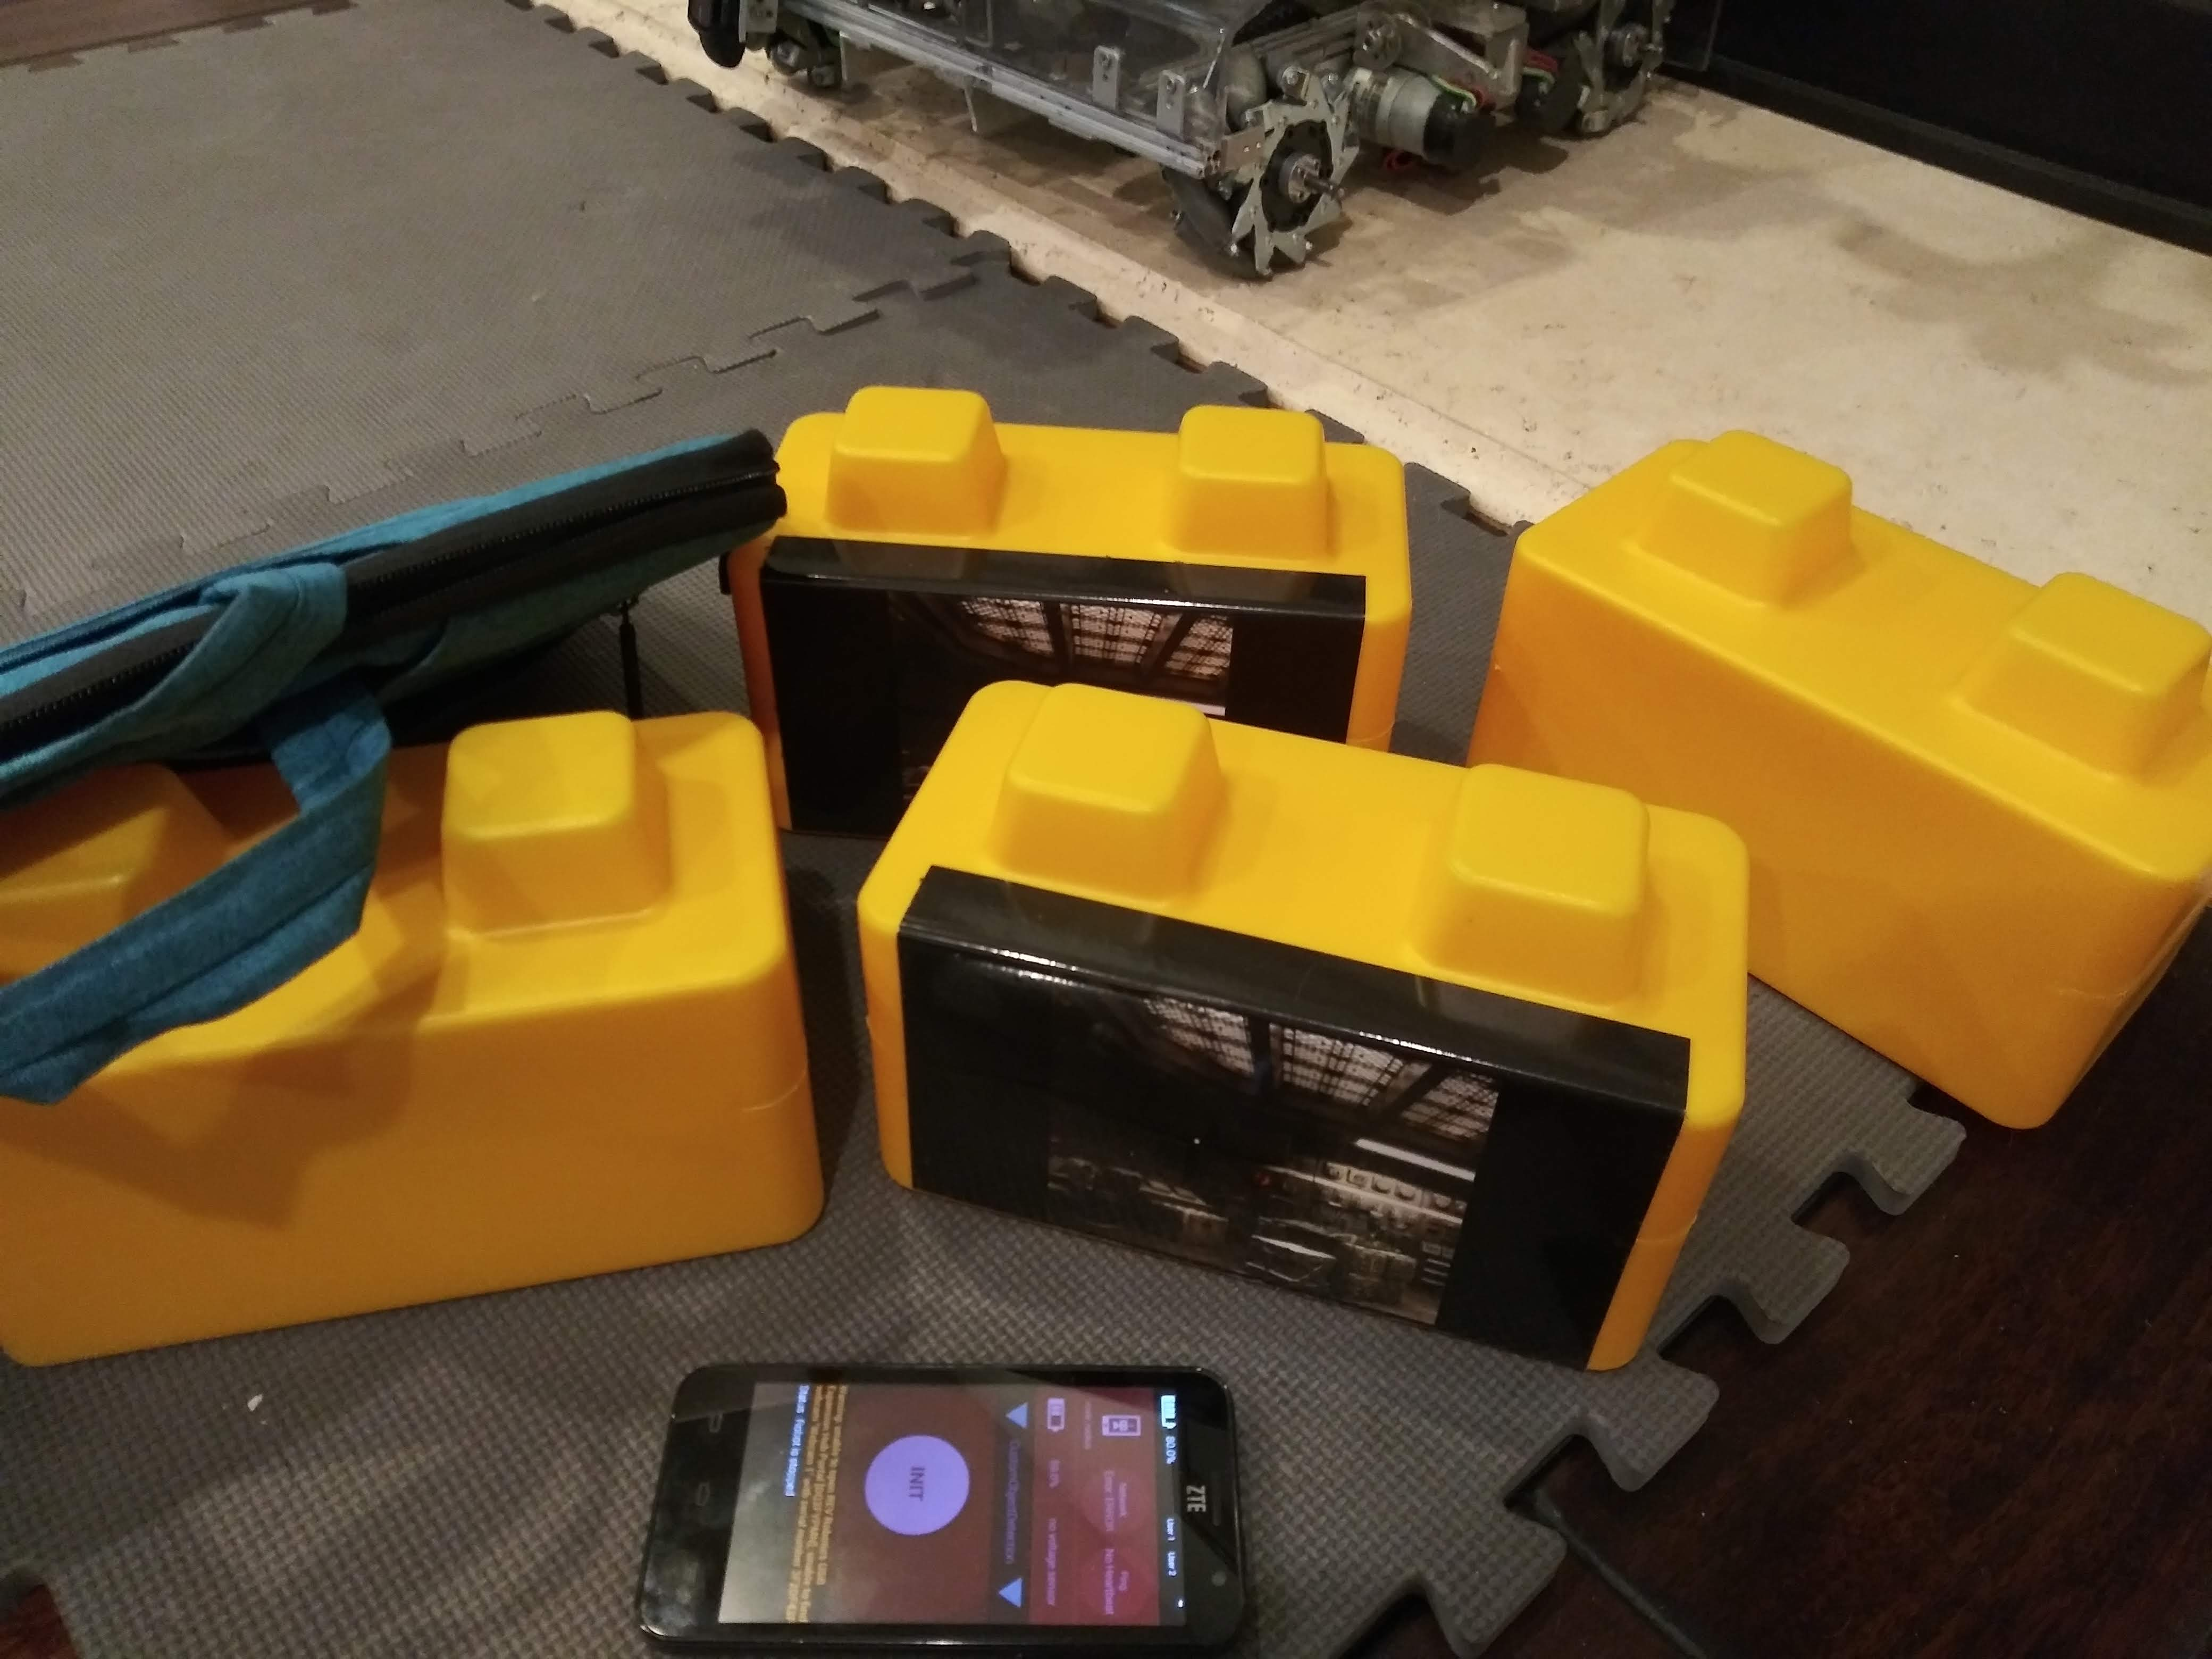skystone: (869, 763, 1669, 1338), (766, 434, 1418, 728)
stone: (42, 866, 751, 1303), (1583, 511, 2134, 988)
